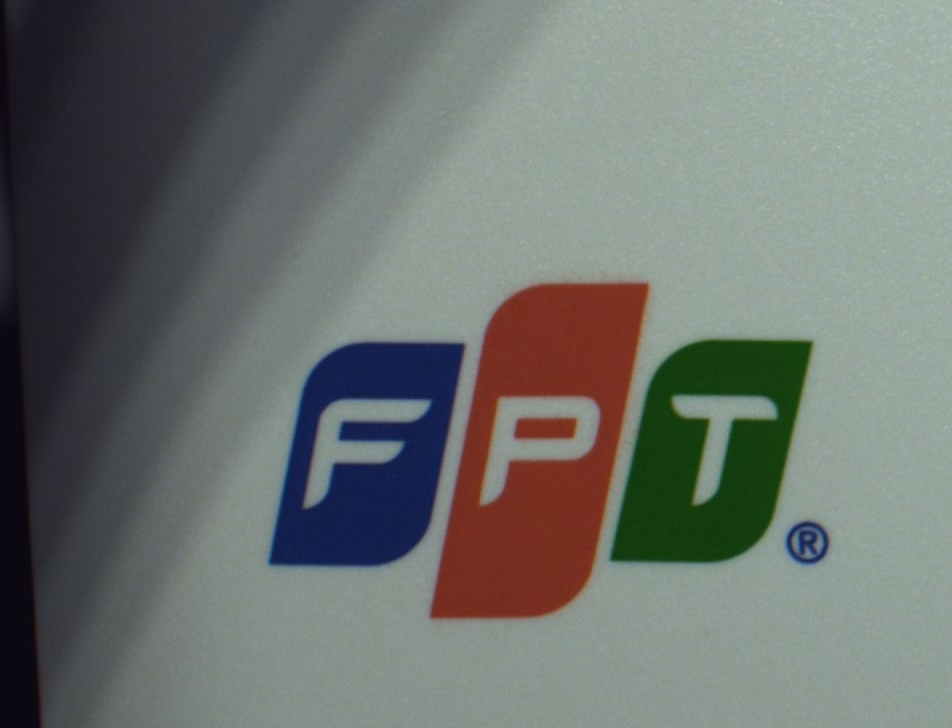BR_FPT: (232, 273, 833, 619)
